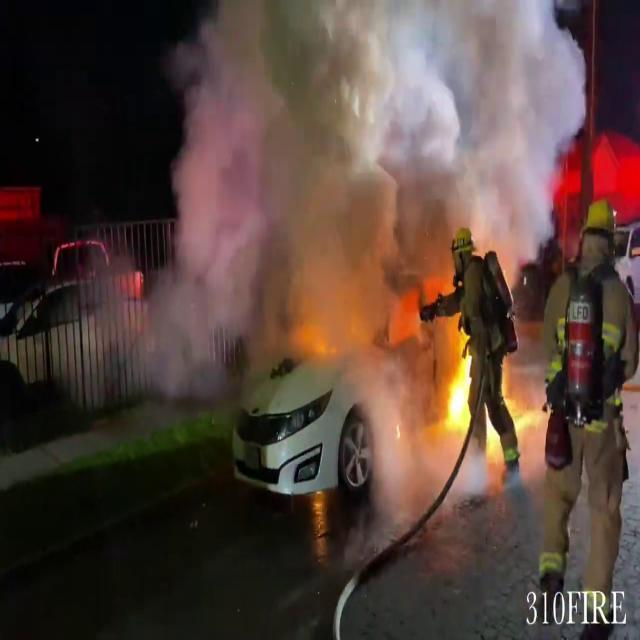Fire: (442, 320, 476, 437)
Smoke: (154, 0, 586, 364)
